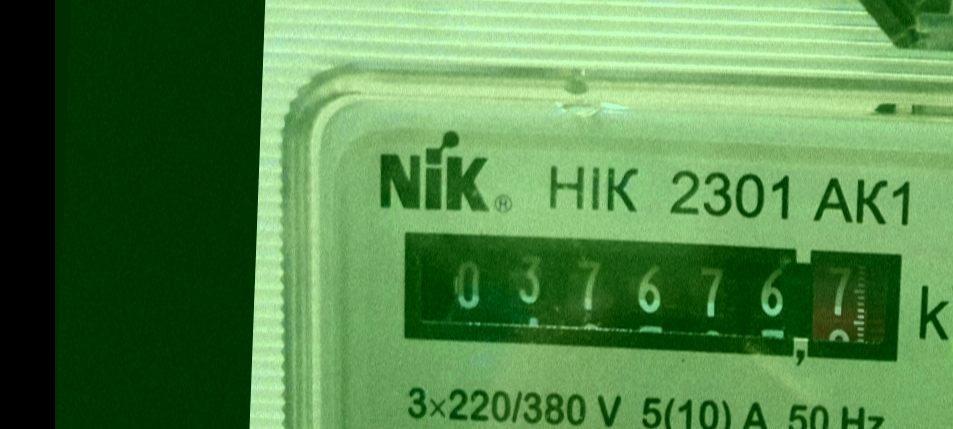0: (449, 255, 485, 311)
3: (513, 249, 542, 307)
6: (631, 259, 665, 314), (755, 263, 787, 319)
7: (693, 263, 726, 322), (570, 255, 603, 312), (823, 262, 852, 318)
screen: (383, 214, 917, 380)
